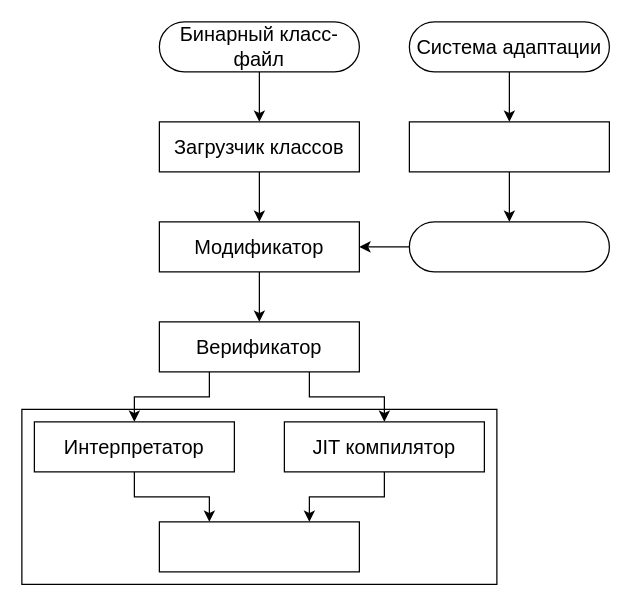
This 631x606 diagram has some shape labels left out. The shapes that lost their labels are listed below. From the top down, each one's box as (x1, y1, x2, y2) in pixels, then its label:
(408, 121, 609, 172): Компиляция файла с модификациями
(408, 221, 609, 272): Бинарный файл с модификациями
(158, 521, 359, 572): Система времени исполнения
